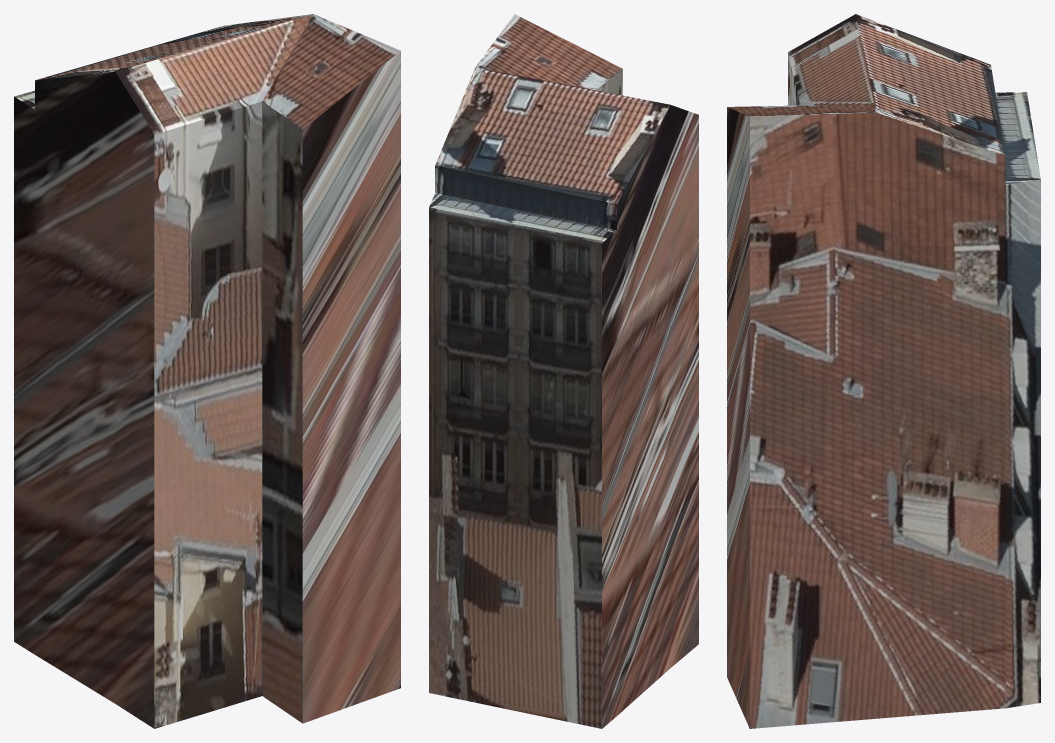
3 renders of one model, left to right at view 1: azimuth 30°, elevation 25°; view 2: azimuth 150°, elevation 25°; view 3: azimuth 270°, elevation 25°, orthographic. The views are drawn at different scales.
Parts seen in each view (by area): view 1: Z_UP; view 2: Z_UP; view 3: Z_UP.
Part boxes in pixels (x1,y1,x2,y2): Z_UP: (14,14,400,728); Z_UP: (429,14,698,728); Z_UP: (727,14,1040,728).
Size of the model in its own units: 9.65 by 24.23 by 11.26.
2 materials, 1 textured.
